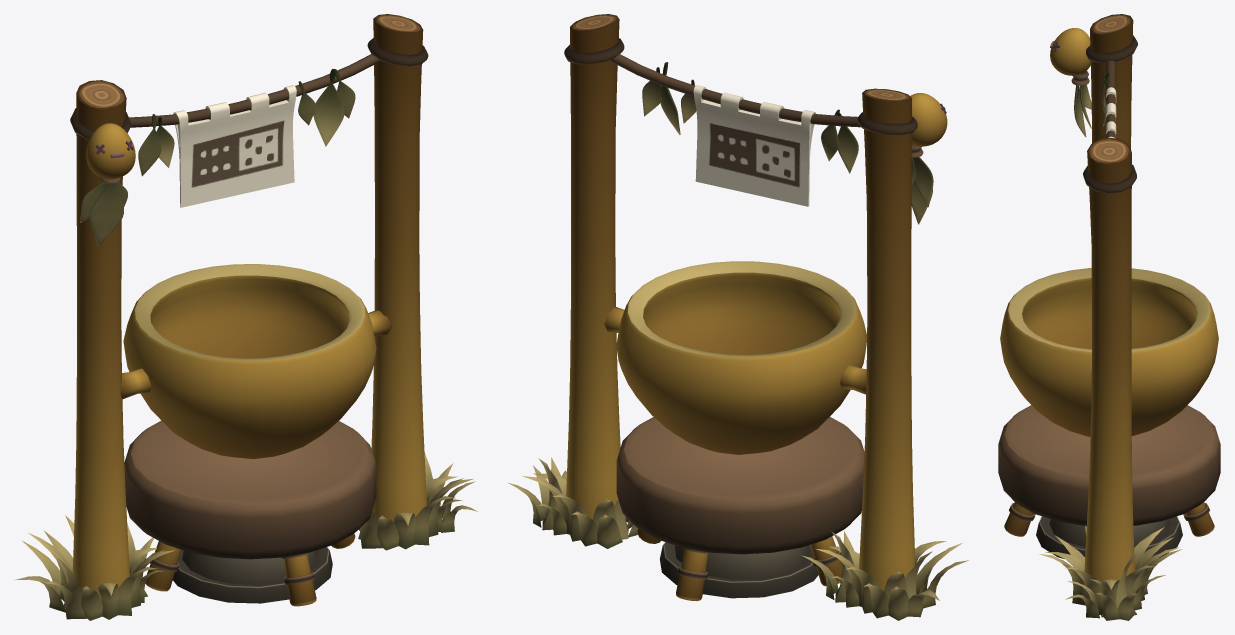
Rendered from ALTER.fbx.
The picture shows the model from 3 angles, left to right: view 1: azimuth 30°, elevation 25°; view 2: azimuth 150°, elevation 25°; view 3: azimuth 270°, elevation 25°; orthographic projection. The views are drawn at different scales.
Parts seen in each view (by area): view 1: ALTER; view 2: ALTER; view 3: ALTER.
Boxes of the visible parts, x1,y1,x2,y2 form: ALTER: (14, 14, 477, 620); ALTER: (507, 14, 968, 620); ALTER: (998, 14, 1220, 620).
Bounding box in the file's own units: 1.22 × 1.38 × 0.611.
